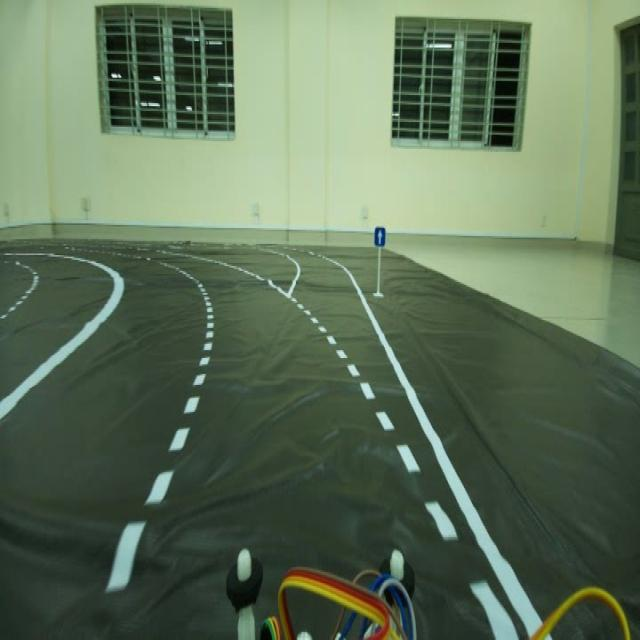onewayroad: (370, 216, 387, 256)
